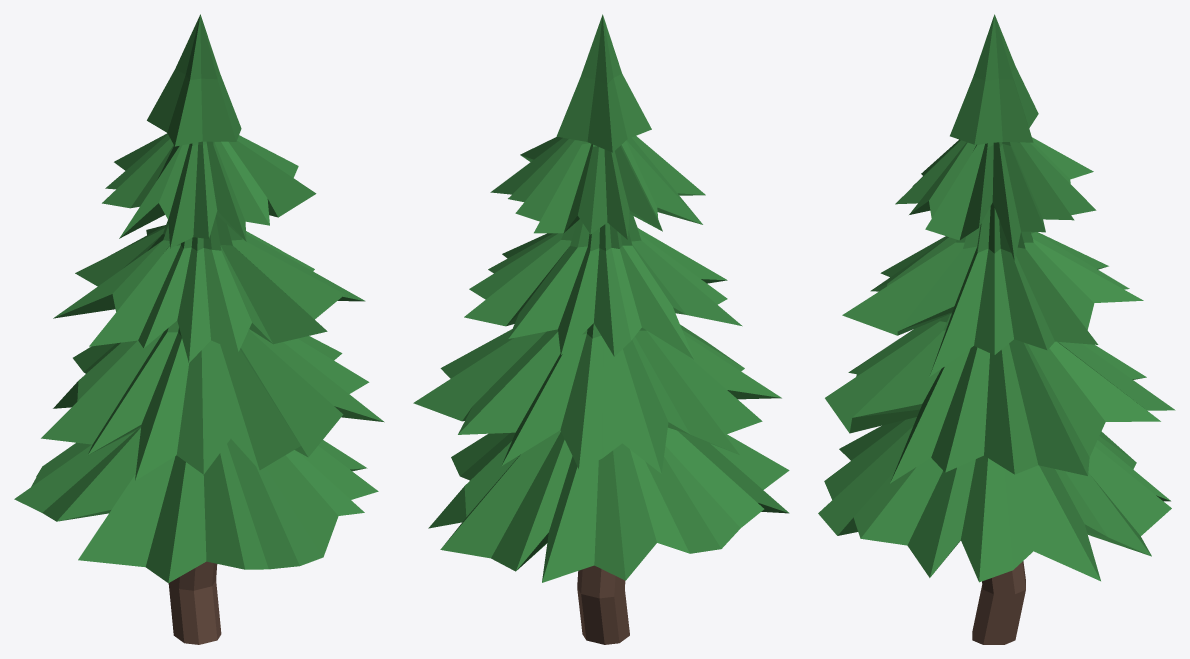
File: Pino4.fbx
3 renders of one model, left to right at view 1: azimuth 30°, elevation 25°; view 2: azimuth 150°, elevation 25°; view 3: azimuth 270°, elevation 25°, orthographic.
Parts seen in each view (by area): view 1: Cube.001; view 2: Cube.001; view 3: Cube.001.
Boxes of the visible parts, x1=… form: Cube.001: x1=14, y1=14, x2=384, y2=644; Cube.001: x1=413, y1=14, x2=789, y2=644; Cube.001: x1=818, y1=14, x2=1175, y2=644.
Size of the model in its own units: 313 by 590 by 307.
